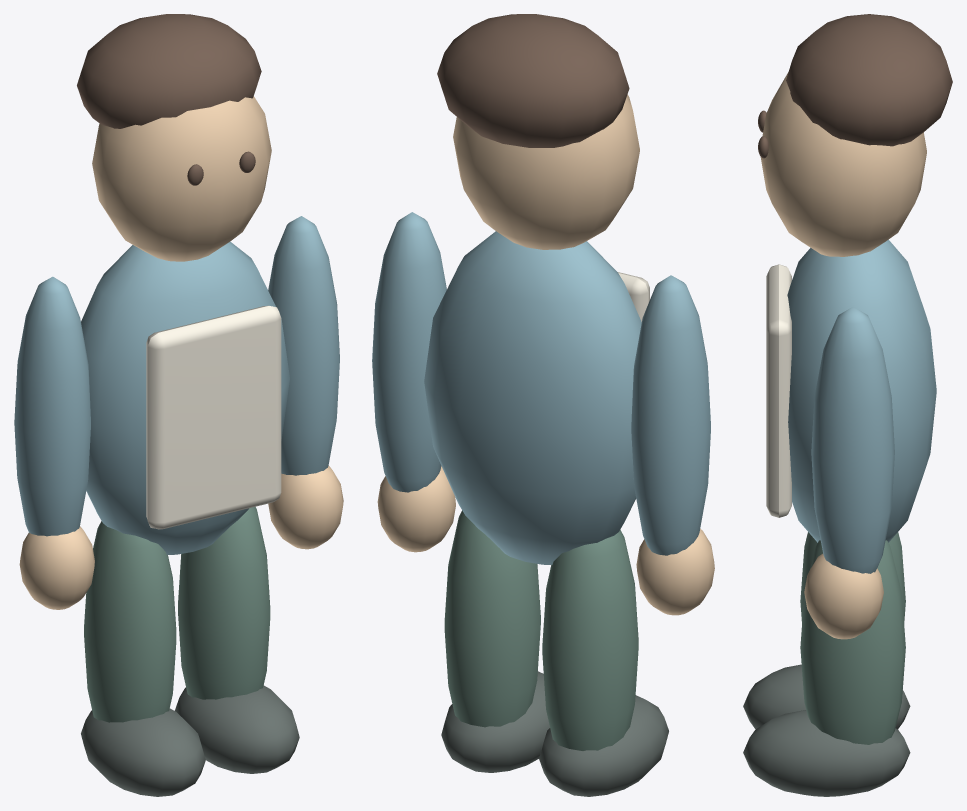
Rendered from Crew.fbx.
3 views of the same model, side by side, from view 1: azimuth 30°, elevation 25°; view 2: azimuth 150°, elevation 25°; view 3: azimuth 270°, elevation 25° (orthographic). The views are drawn at different scales.
Visible parts, largest first — view 1: Linen apron, Body.001, Leg_L.001, Leg_R.001, Head.001, Arm_L.001, Arm_R.001, Hair.001; view 2: Body.001, Leg_L.001, Arm_L.001, Leg_R.001, Hair.001, Arm_R.001, Head.001, Linen apron; view 3: Arm_R.001, Body.001, Leg_R.001, Head.001, Hair.001, Linen apron, Leg_L.001.
Part boxes in pixels (bbox=[...]): Linen apron: bbox=[146, 305, 281, 529]; Body.001: bbox=[81, 241, 289, 554]; Leg_L.001: bbox=[81, 521, 205, 796]; Leg_R.001: bbox=[174, 506, 299, 773]; Head.001: bbox=[92, 96, 271, 261]; Arm_L.001: bbox=[14, 276, 94, 609]; Arm_R.001: bbox=[268, 216, 343, 549]; Hair.001: bbox=[77, 14, 261, 128]; Body.001: bbox=[424, 231, 641, 564]; Leg_L.001: bbox=[539, 529, 668, 796]; Arm_L.001: bbox=[631, 275, 714, 615]; Leg_R.001: bbox=[441, 510, 549, 772]; Hair.001: bbox=[437, 14, 629, 147]; Arm_R.001: bbox=[372, 212, 455, 552]; Head.001: bbox=[453, 94, 639, 249]; Linen apron: bbox=[618, 272, 649, 321]; Arm_R.001: bbox=[804, 306, 894, 639]; Body.001: bbox=[787, 239, 936, 542]; Leg_R.001: bbox=[743, 540, 910, 796]; Head.001: bbox=[760, 72, 926, 256]; Hair.001: bbox=[786, 14, 952, 146]; Linen apron: bbox=[766, 264, 791, 517]; Leg_L.001: bbox=[743, 532, 910, 729].
Size of the model in its own units: 57 by 127 by 32.6.
